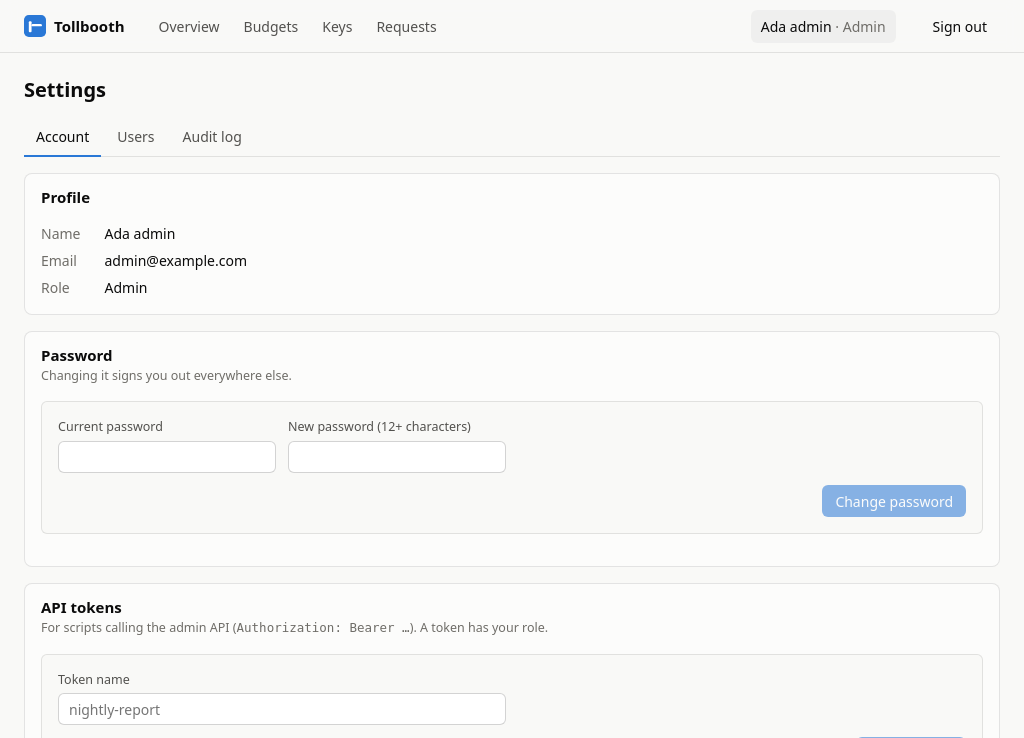
account settings › creates an API token and shows it once
In the field labelled "Token name": (282, 709) [58,693,506,725], type "ci"
(page scrolled)
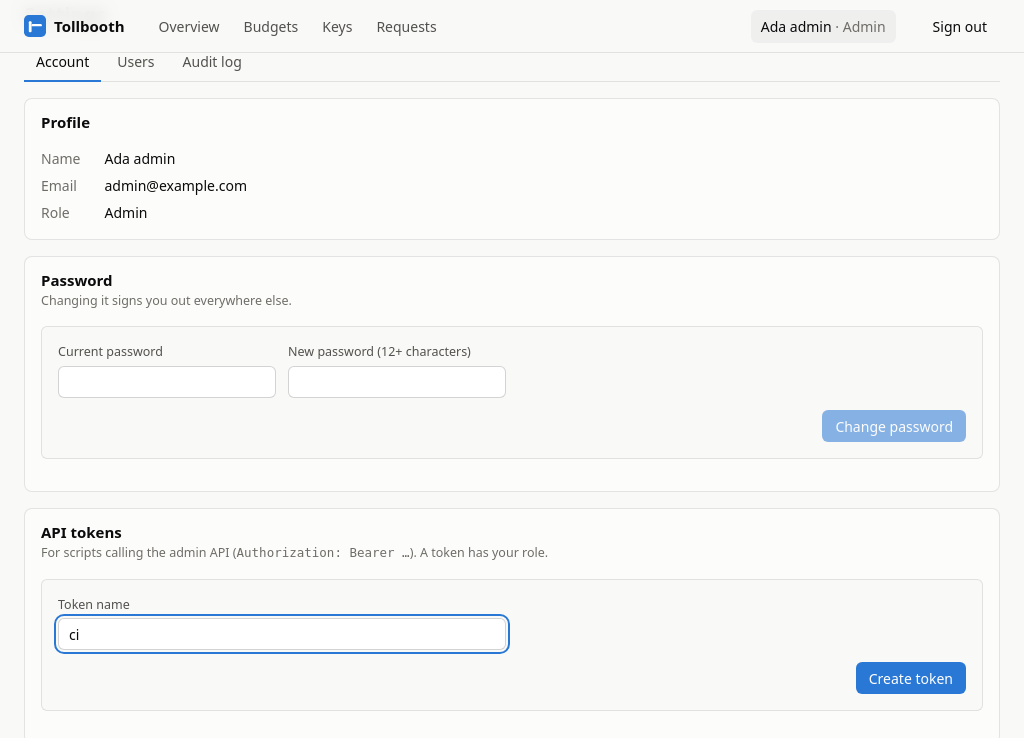
Click the button "Create token": (911, 678) [856,662,966,694]
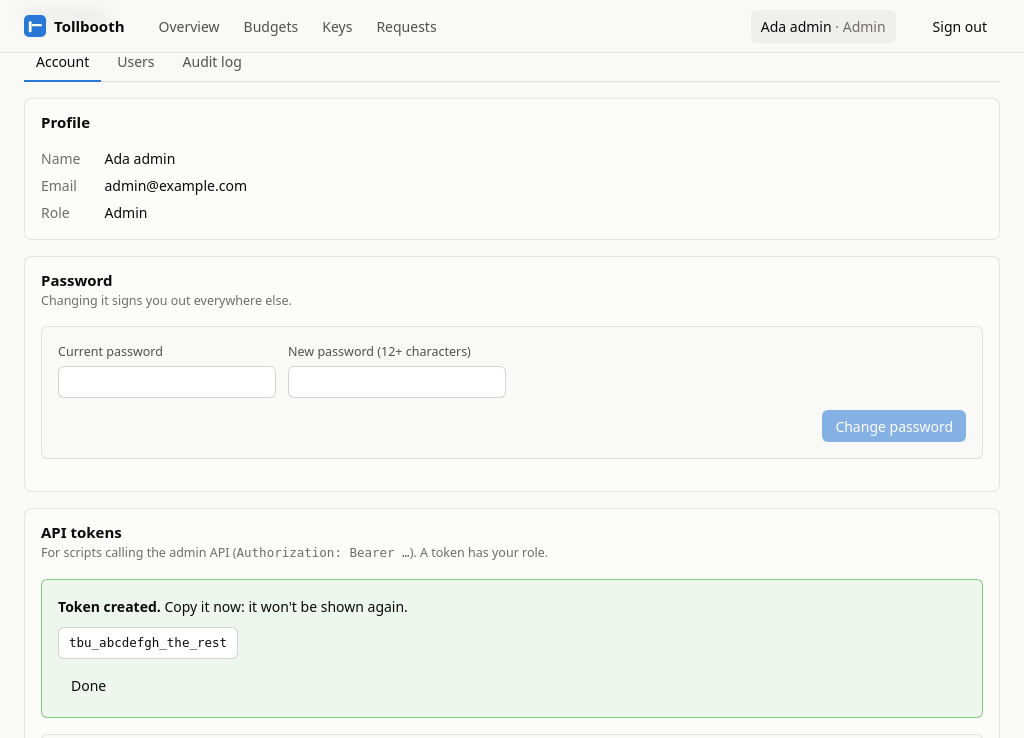
Now the text named "New API token" reads "tbu_abcdefgh_the_rest", box [69,634,227,650]
Click the button "Done": (89, 685) [58,669,119,701]
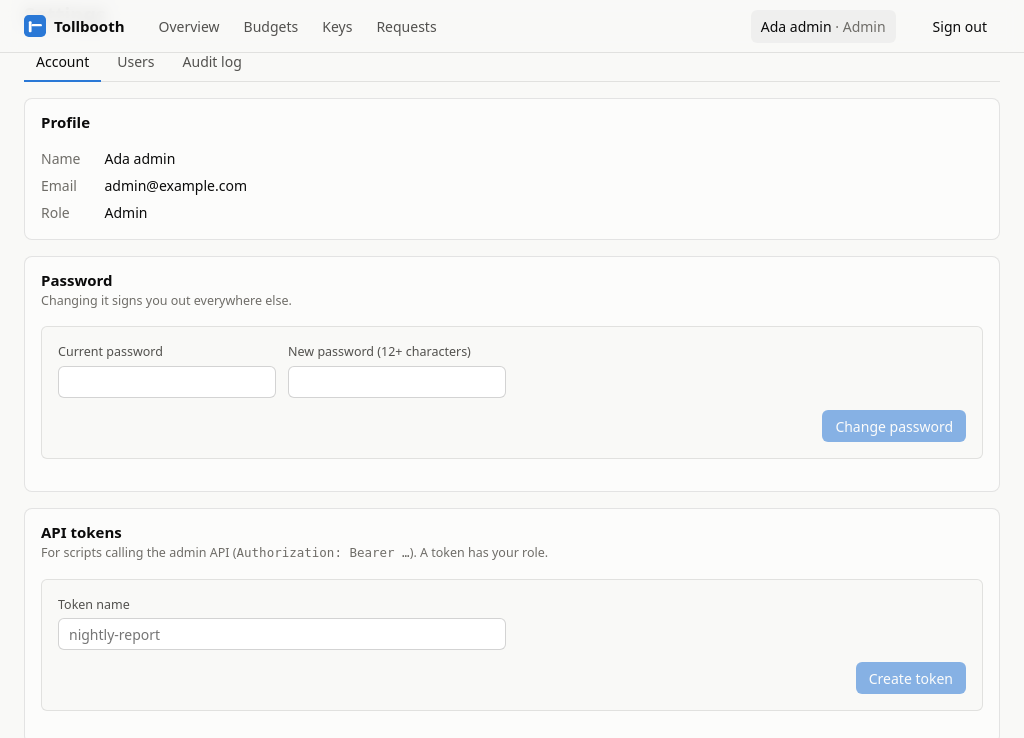
Now the text "tbu_abcdefgh_the_rest" is gone
